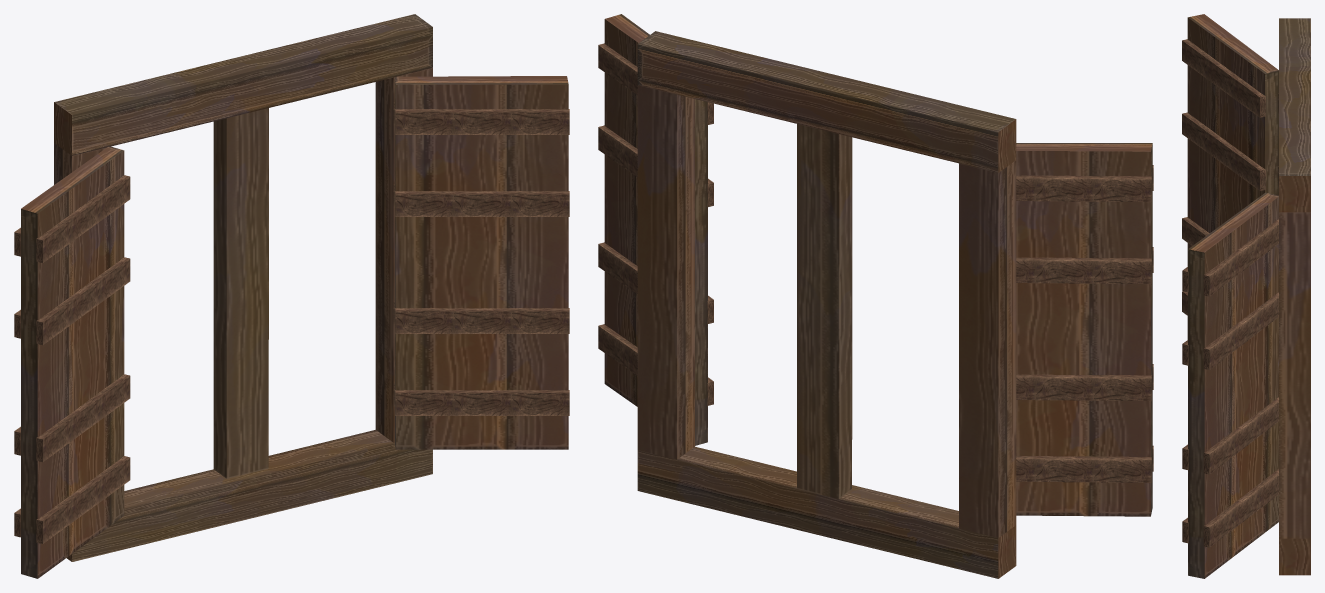
Rendered from DB_win.fbx.
The picture shows the model from 3 angles, left to right: view 1: azimuth 30°, elevation 25°; view 2: azimuth 150°, elevation 25°; view 3: azimuth 270°, elevation 25°; orthographic projection. The views are drawn at different scales.
Parts seen in each view (by area): view 1: Box001; view 2: Box001; view 3: Box001.
Boxes of the visible parts, bbox=[...] form: Box001: bbox=[14, 14, 569, 578]; Box001: bbox=[598, 14, 1153, 578]; Box001: bbox=[1182, 14, 1310, 578].
Bounding box in the file's own units: 86.82 × 66.98 × 19.58.
Materials: 2 (2 with a texture image).
